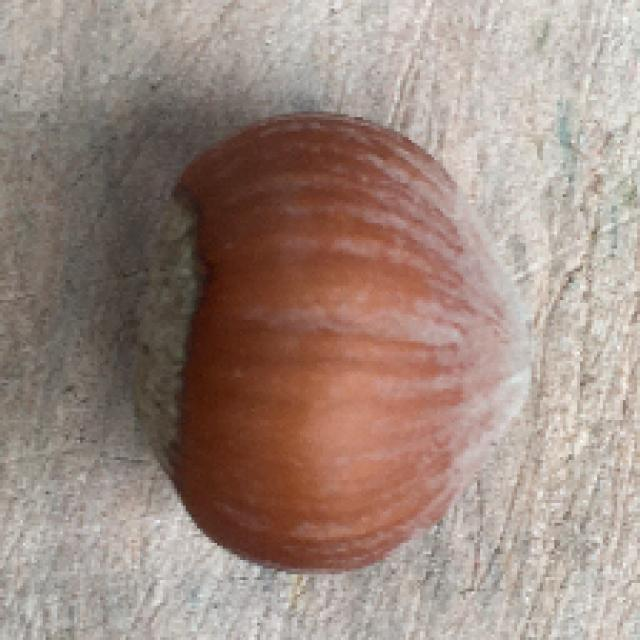qualityHazelnut: (108, 106, 533, 578)
